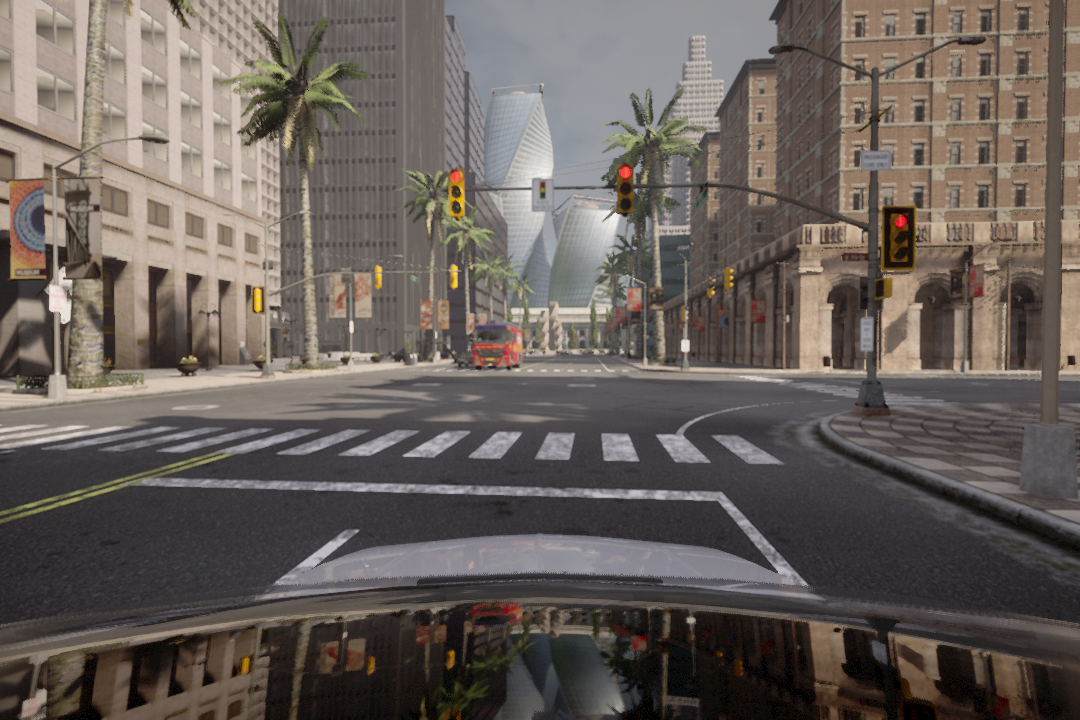TrafficLight: (884, 208, 915, 277), (614, 164, 635, 220), (448, 167, 467, 220)
walkside: (3, 422, 780, 472), (407, 364, 616, 376)
